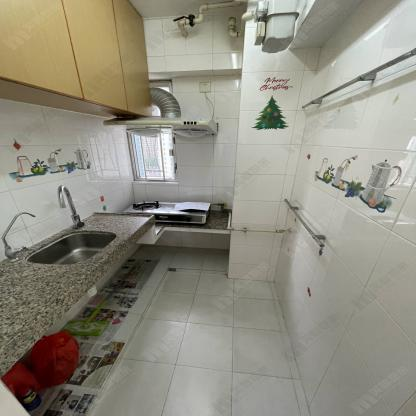Exhaust Hood: (103, 88, 215, 137)
Faucet: (55, 184, 83, 228)
Sink: (25, 229, 123, 264)
Stove: (122, 201, 210, 226)
